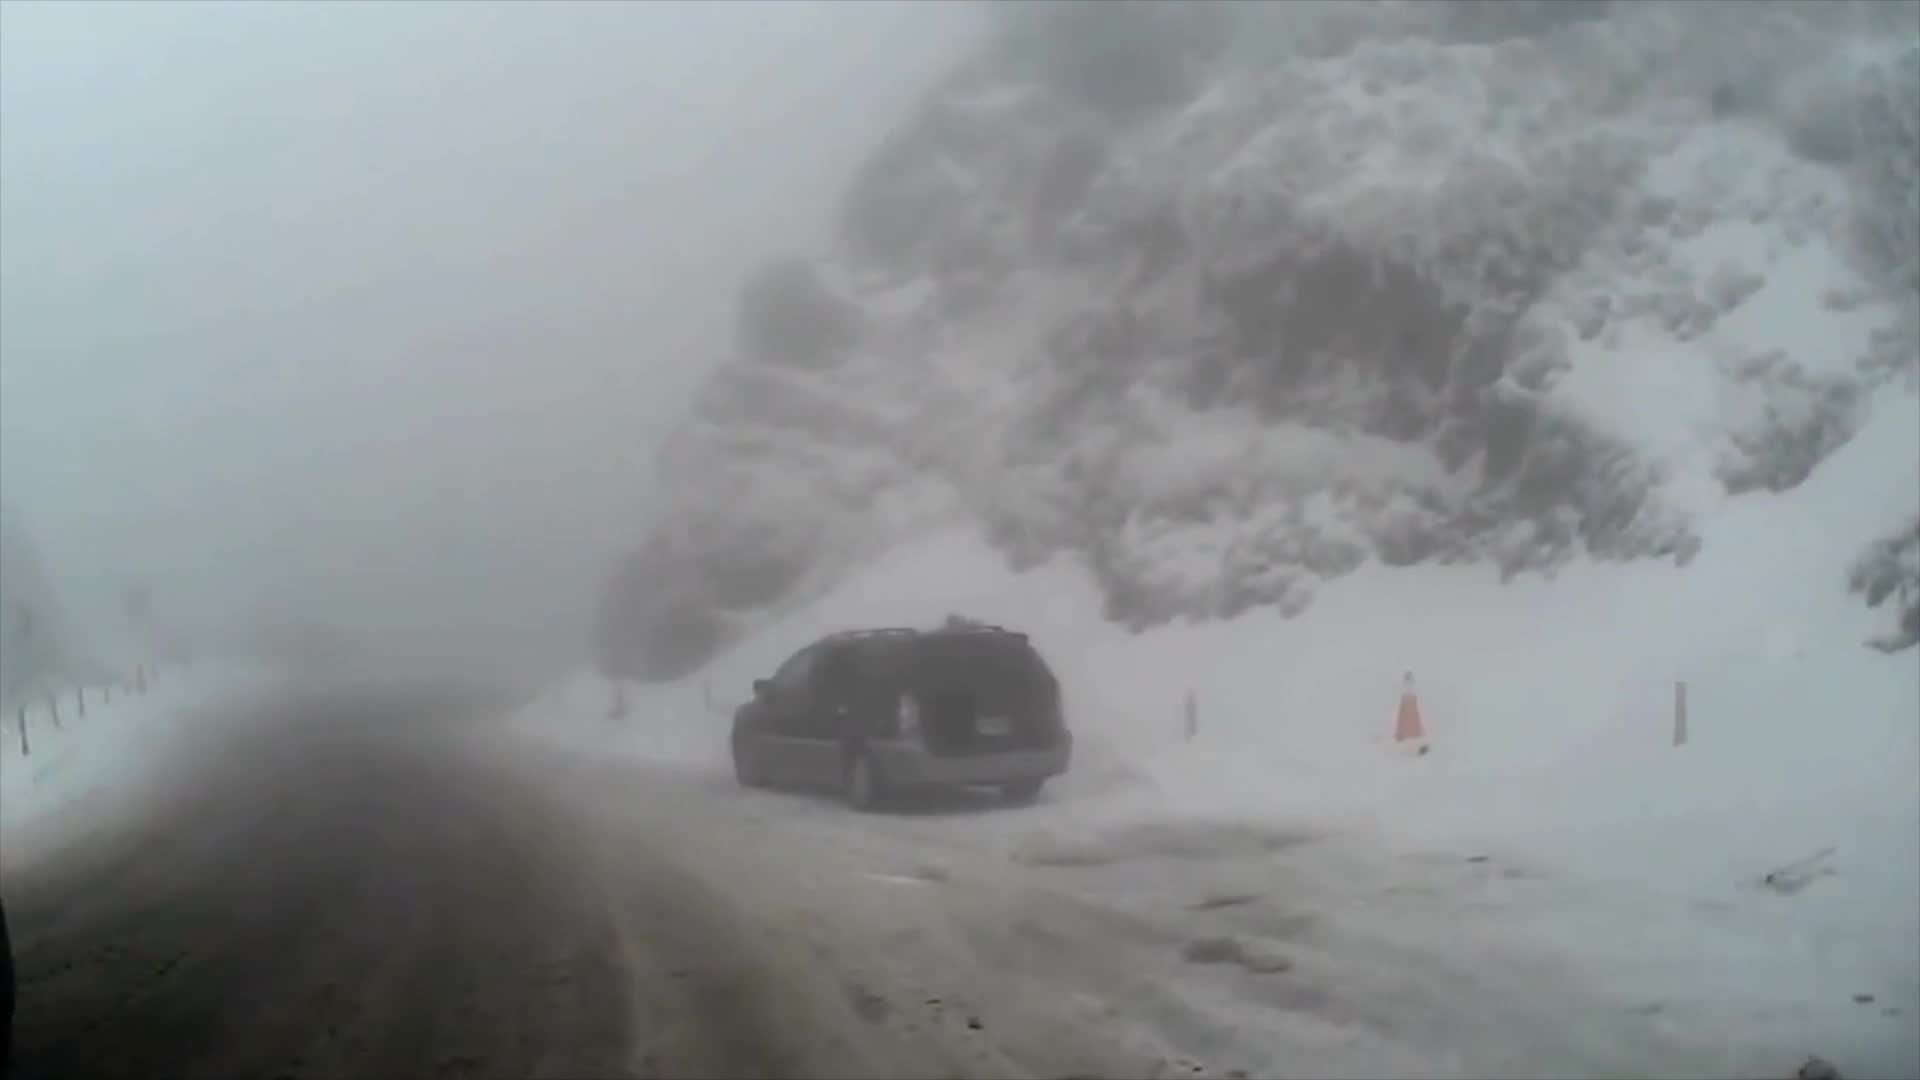vehicle: (728, 628, 1072, 814)
